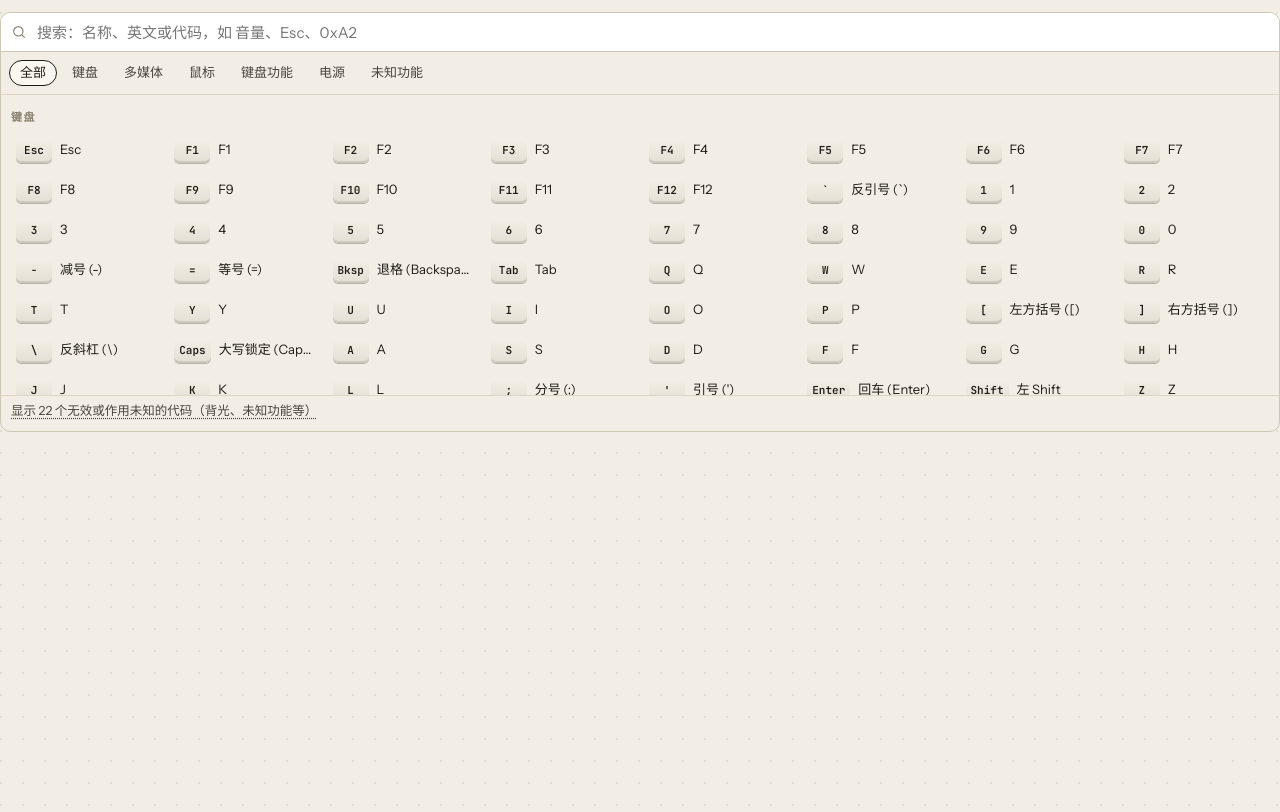
it: CodePicker › keeps the 未知功能 tab while the current value is one of them
Click the tab "未知功能": (397, 73) [360,60,434,86]
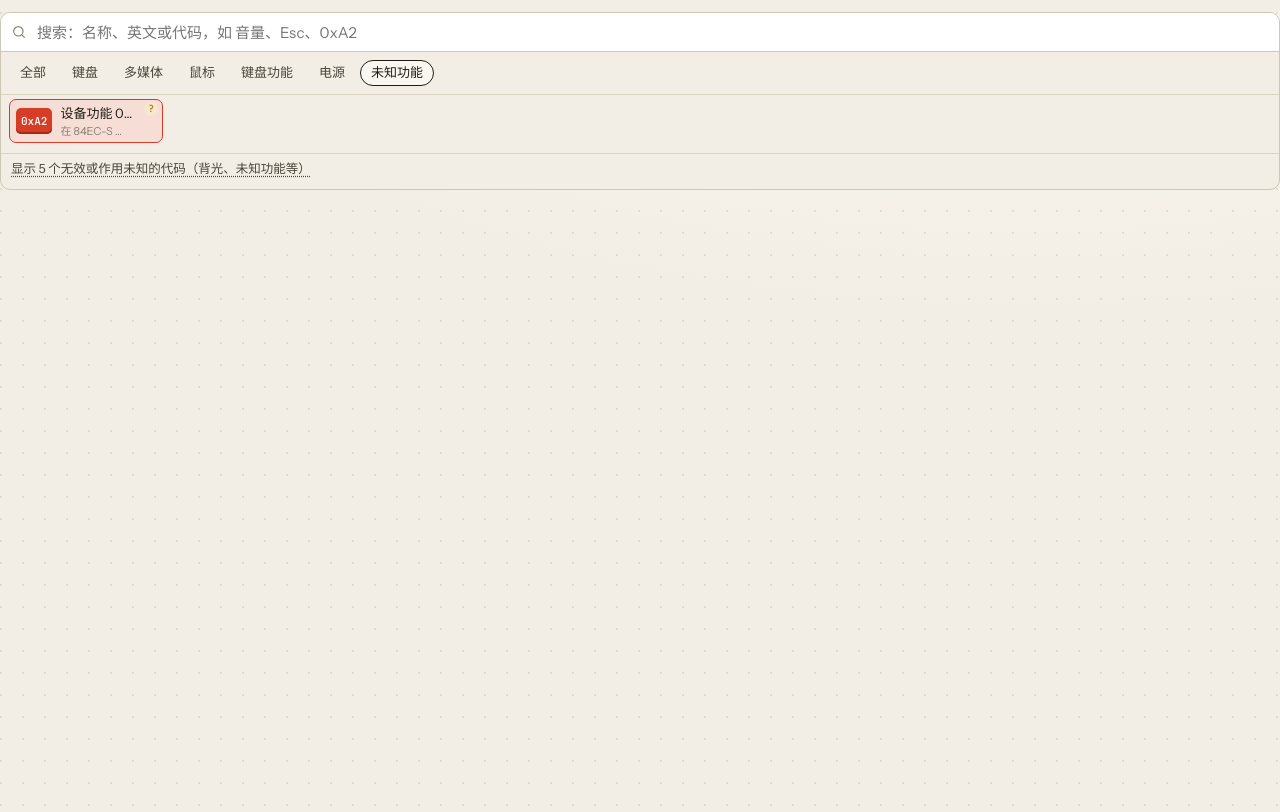
Now the number of options is 1, box [9,99,163,143]
Now the button "显示 5 个无效或作用未知的代码（背光、未知功能等）" is shown, box [11,160,311,179]
